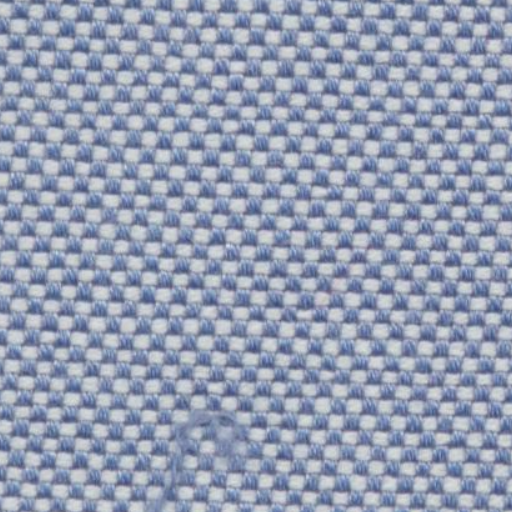DuanSha: (129, 386, 308, 506)
